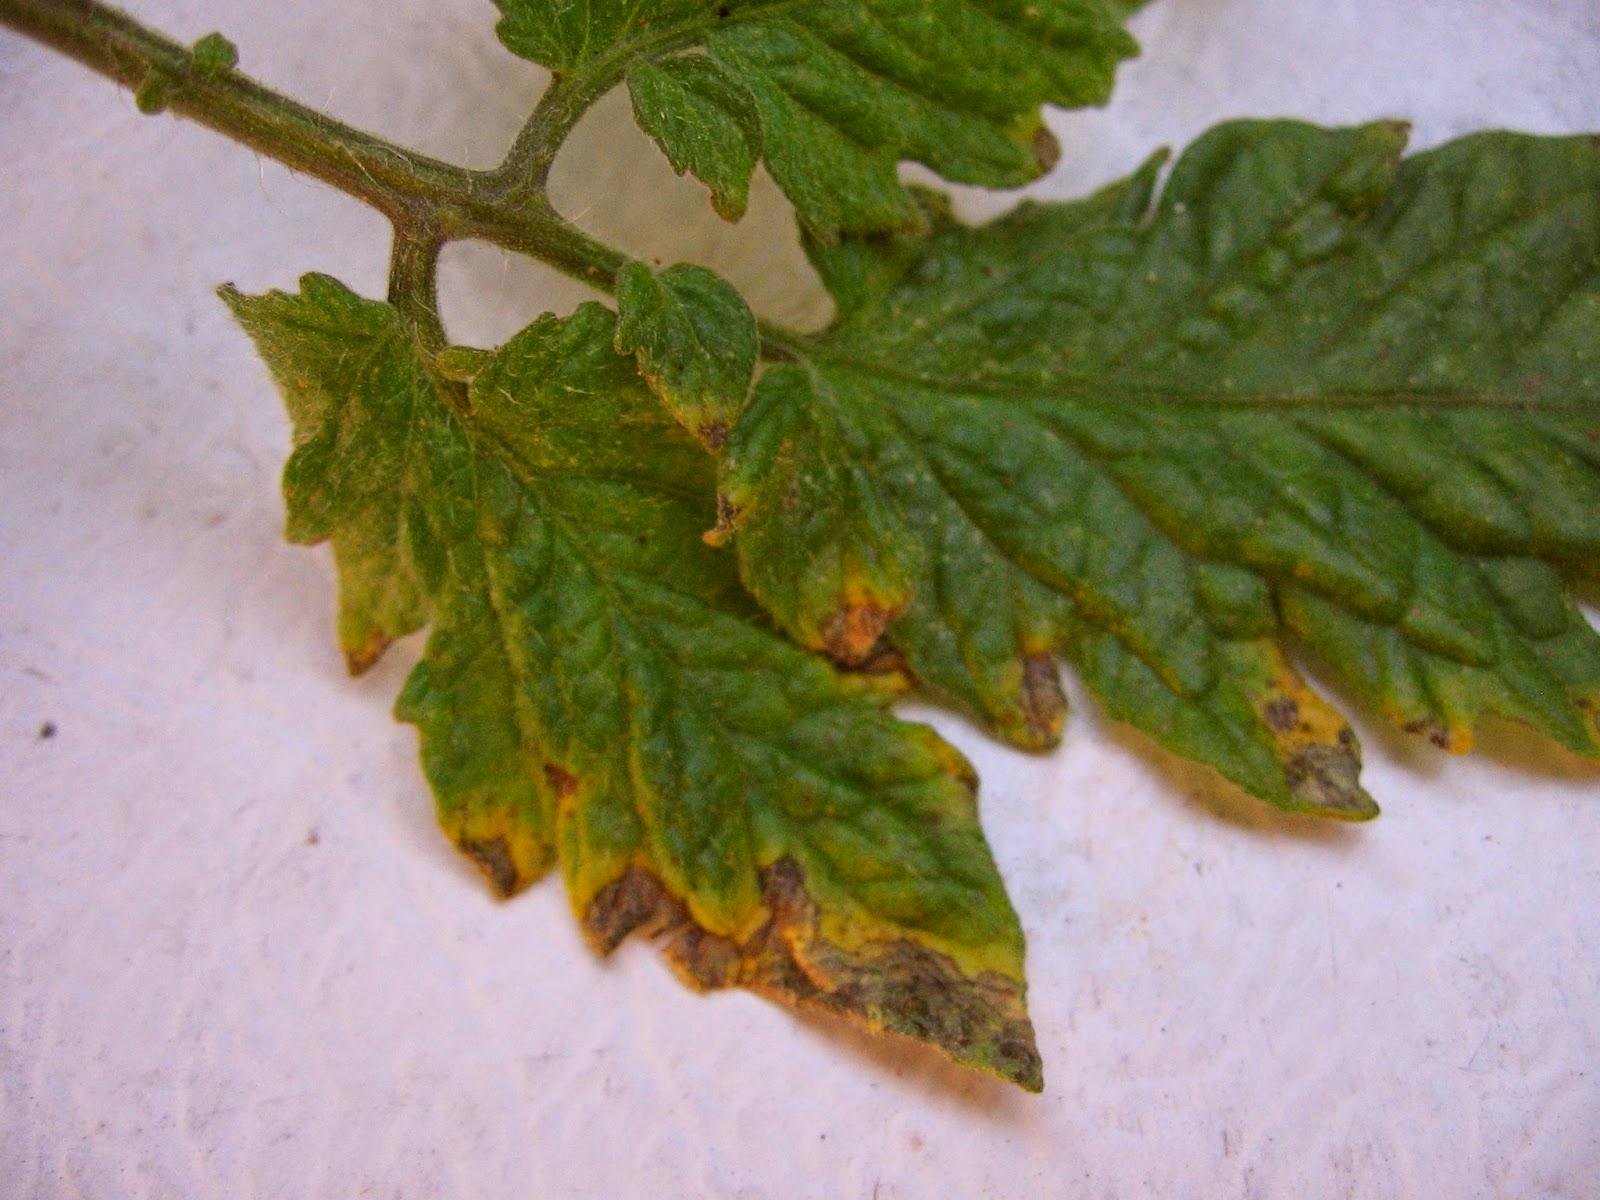Tomato Septoria leaf spot: (304, 105, 1599, 823), (223, 268, 1054, 1094)
